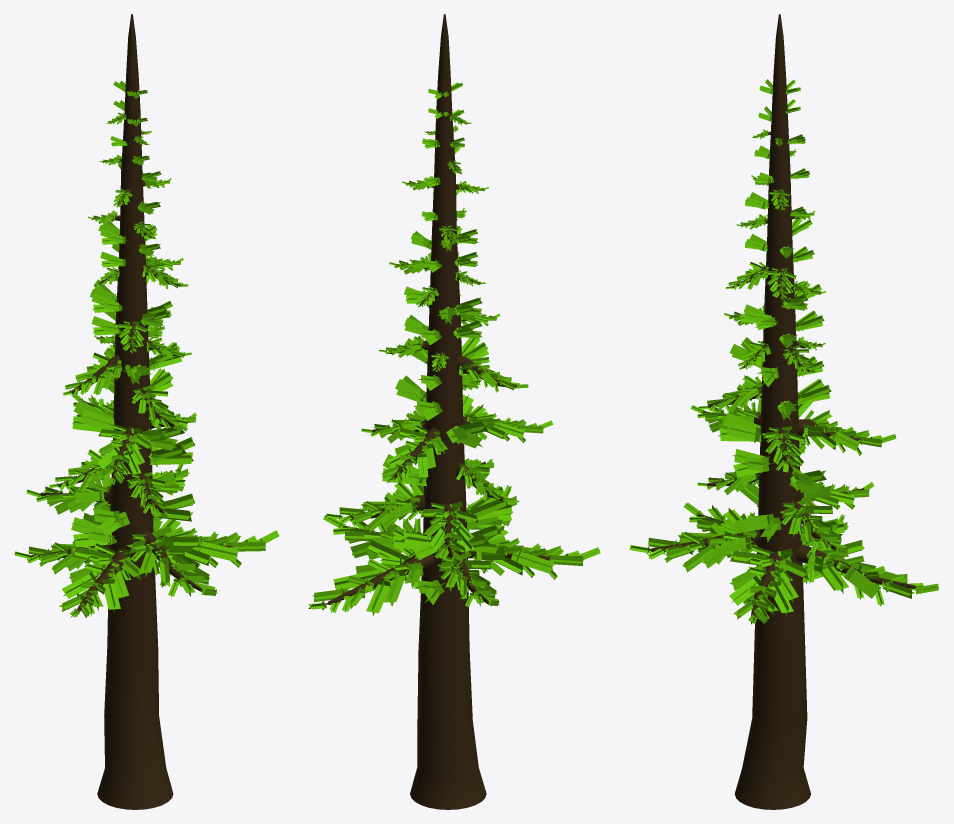
The model's file is Tree.fbx.
3 views of the same model, side by side, from view 1: azimuth 30°, elevation 25°; view 2: azimuth 150°, elevation 25°; view 3: azimuth 270°, elevation 25° (orthographic).
Visible parts, largest first — view 1: pPlane234; view 2: pPlane234; view 3: pPlane234.
Boxes of the visible parts, <box> form: pPlane234: <box>14,14,279,809</box>; pPlane234: <box>308,14,600,809</box>; pPlane234: <box>629,14,938,809</box>.
Bounding box in the file's own units: 149 × 458 × 165.
